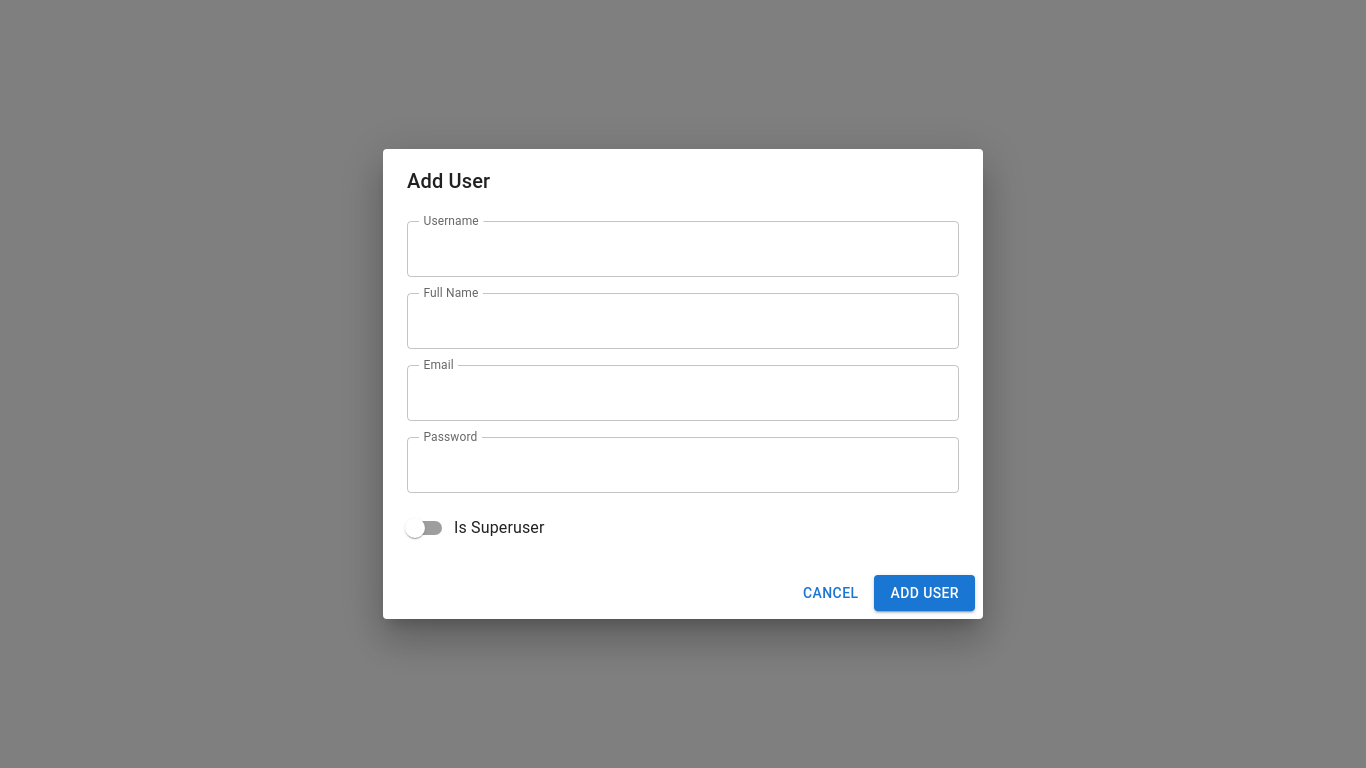
Test: UserDialog — add mode › surfaces error from server on add failure
Step 1. Type "alice" into the field labelled "Username" → coordinates (683, 249), box 407,221 -> 959,277
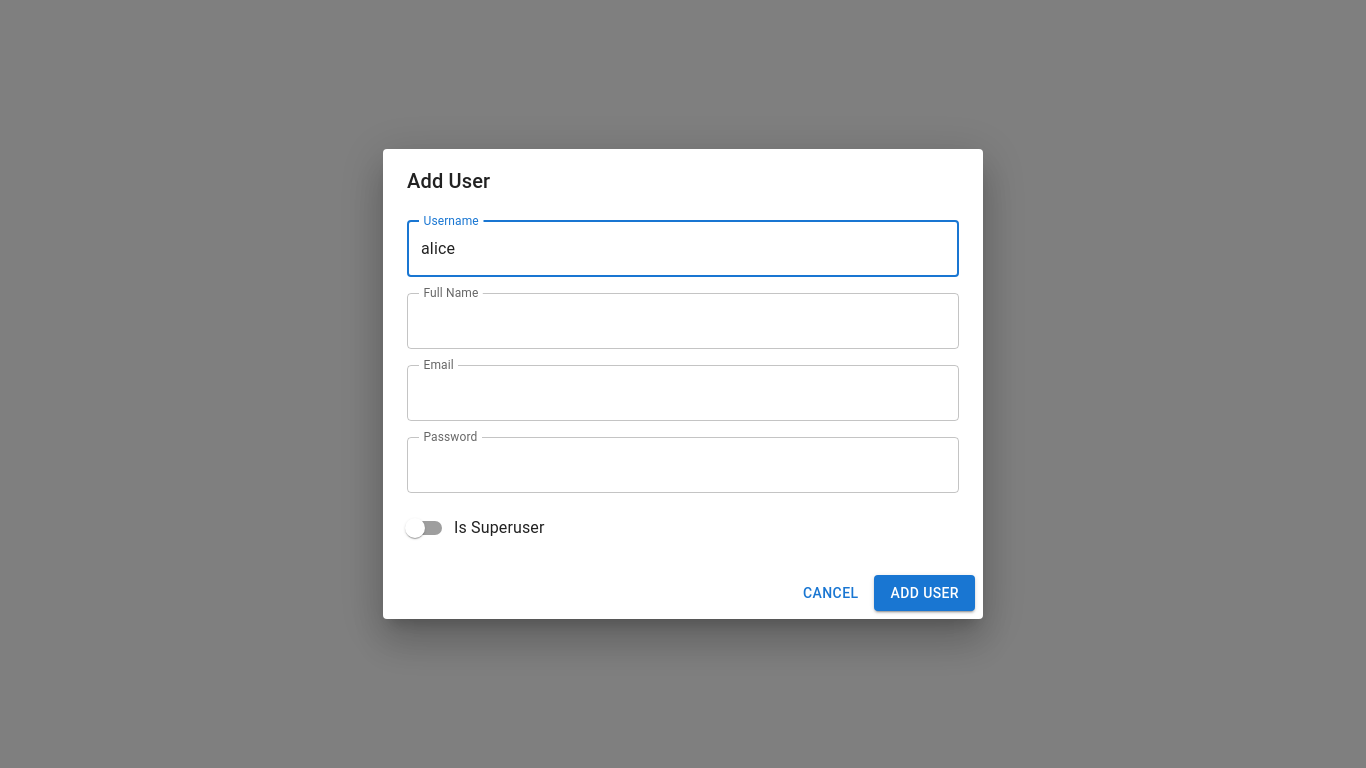
Step 2. Type "secret123" into the password field labelled "Password" → coordinates (683, 465), box 407,437 -> 959,493
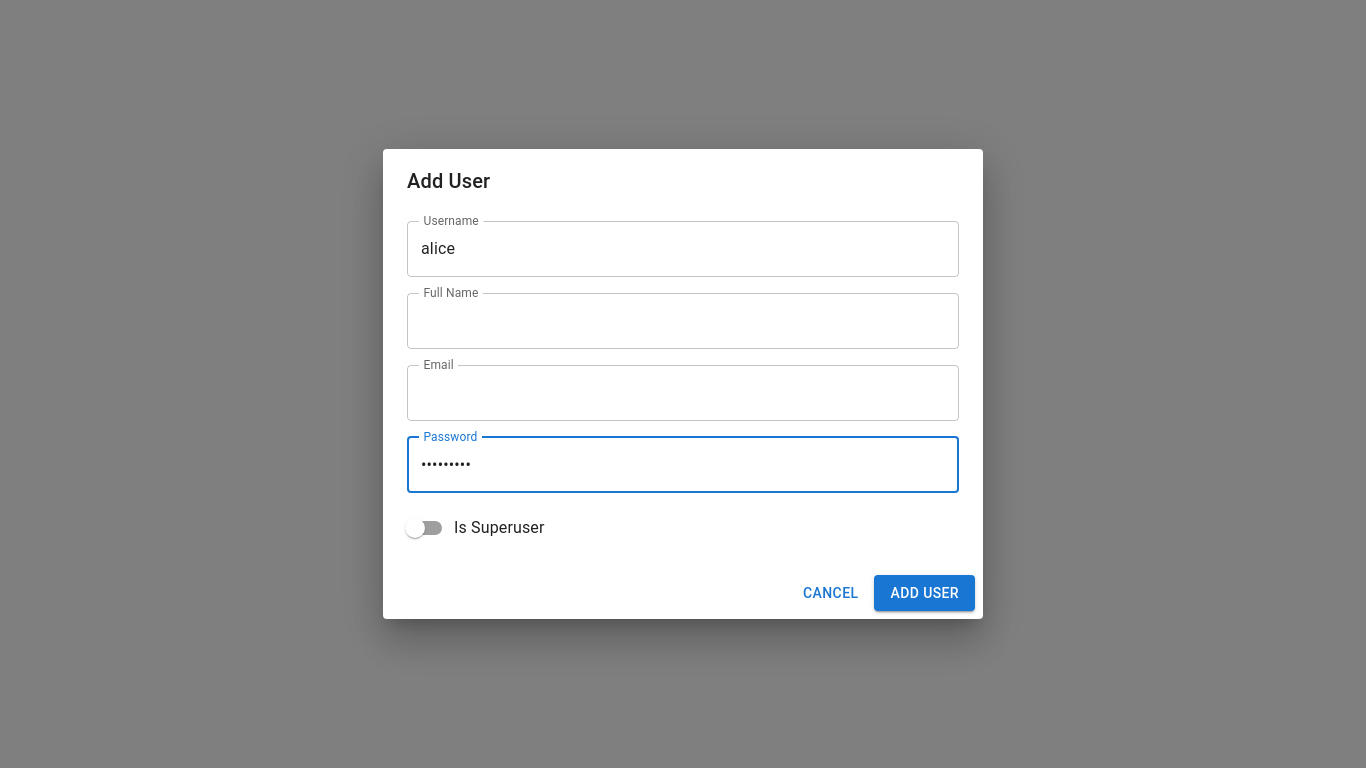
Step 3. Click the button "Add User" → coordinates (925, 593), box 874,575 -> 975,611
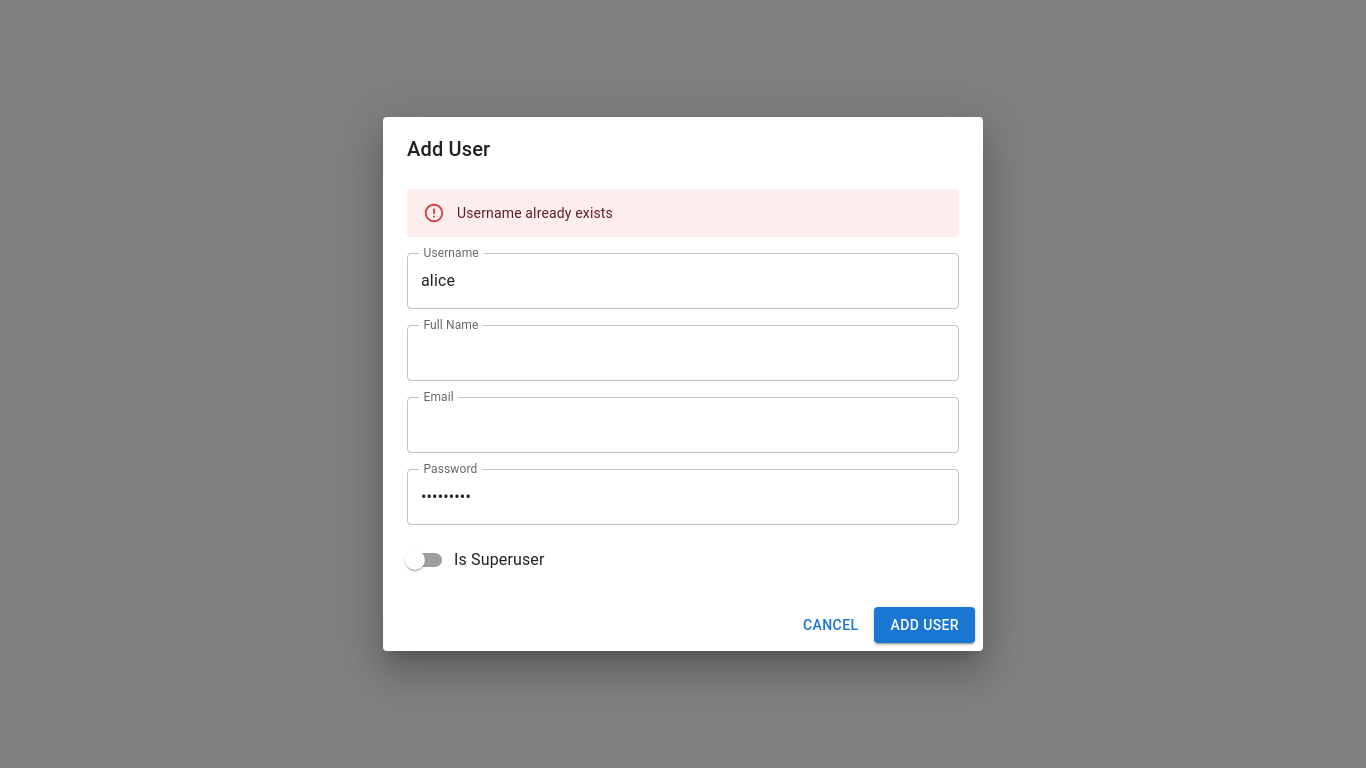
Result: the message reads "Username already exists" at 457,205 -> 613,221
